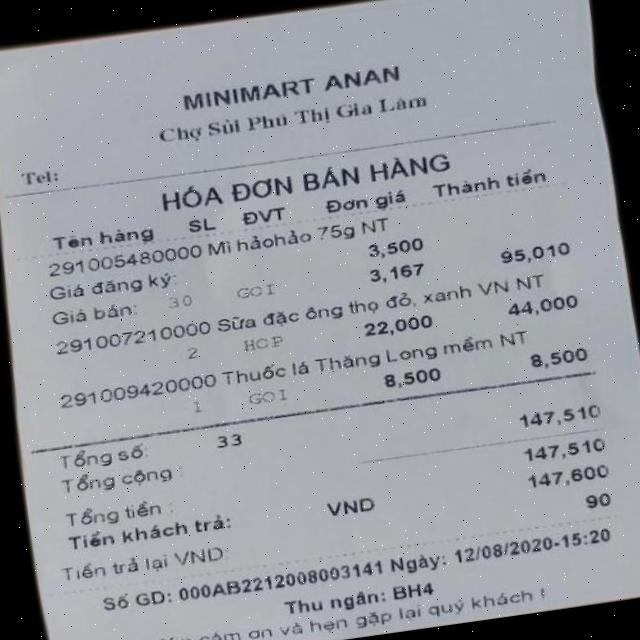Date: (452, 532, 558, 567)
Store_Name: (175, 54, 407, 115)
amount_number: (519, 396, 603, 435)
label_total: (57, 459, 178, 502)
